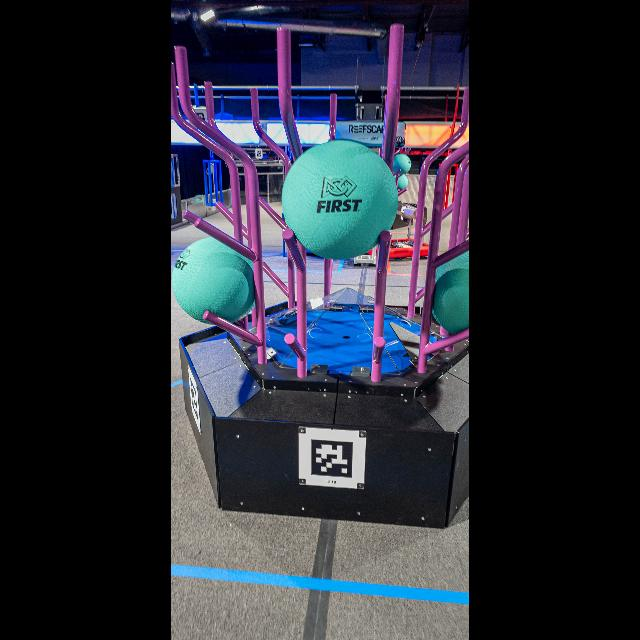ALGAE: (284, 140, 396, 260), (175, 238, 255, 322), (433, 253, 469, 335), (393, 154, 411, 174), (395, 174, 409, 190)
